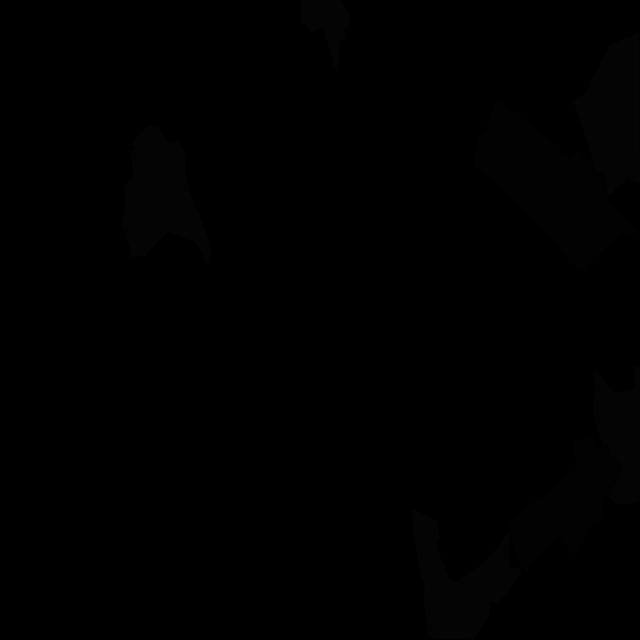cardboard: (474, 99, 637, 273), (506, 436, 623, 572)
soft_plastic: (411, 509, 521, 640), (122, 125, 211, 264), (573, 32, 640, 196), (592, 367, 640, 505), (301, 0, 350, 70)
